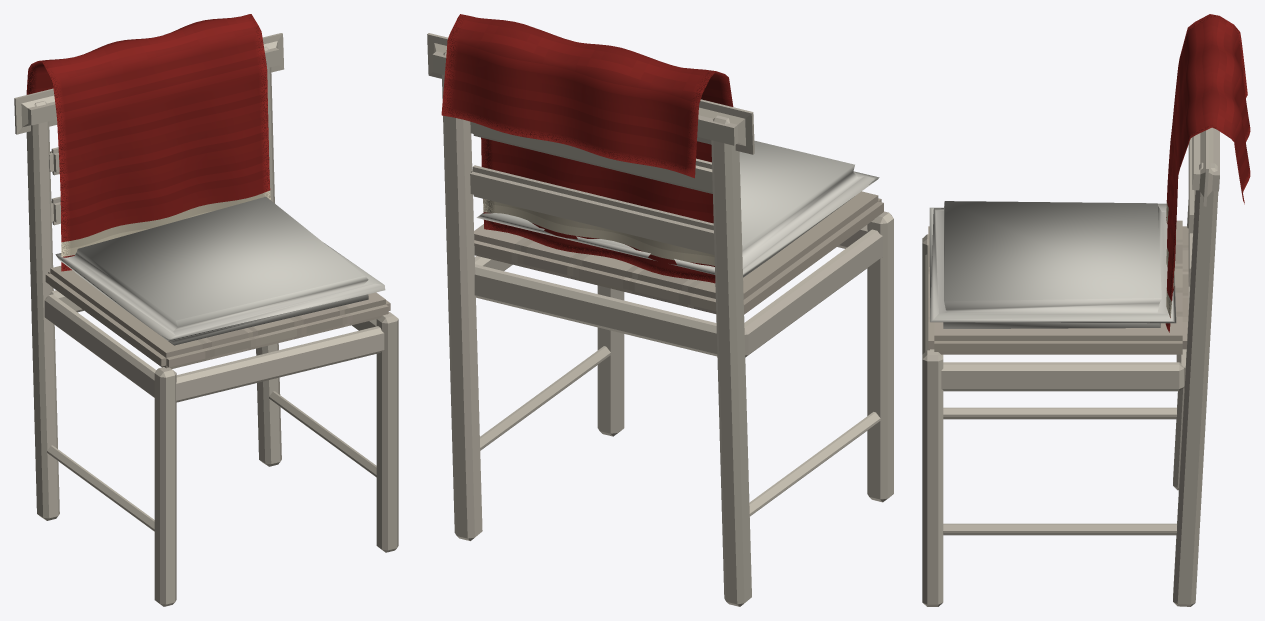
Rendered from koala-chair.glb.
The picture shows the model from 3 angles, left to right: view 1: azimuth 30°, elevation 25°; view 2: azimuth 150°, elevation 25°; view 3: azimuth 270°, elevation 25°; orthographic projection. The views are drawn at different scales.
Parts seen in each view (by area): view 1: koala-seat-glacier; view 2: koala-seat-glacier; view 3: koala-seat-glacier.
Boxes of the visible parts, x1,y1,x2,y2 form: koala-seat-glacier: [14, 14, 398, 606]; koala-seat-glacier: [427, 14, 893, 606]; koala-seat-glacier: [922, 14, 1250, 606].
Bounding box in the file's own units: 0.56 × 0.8915 × 0.5548.
